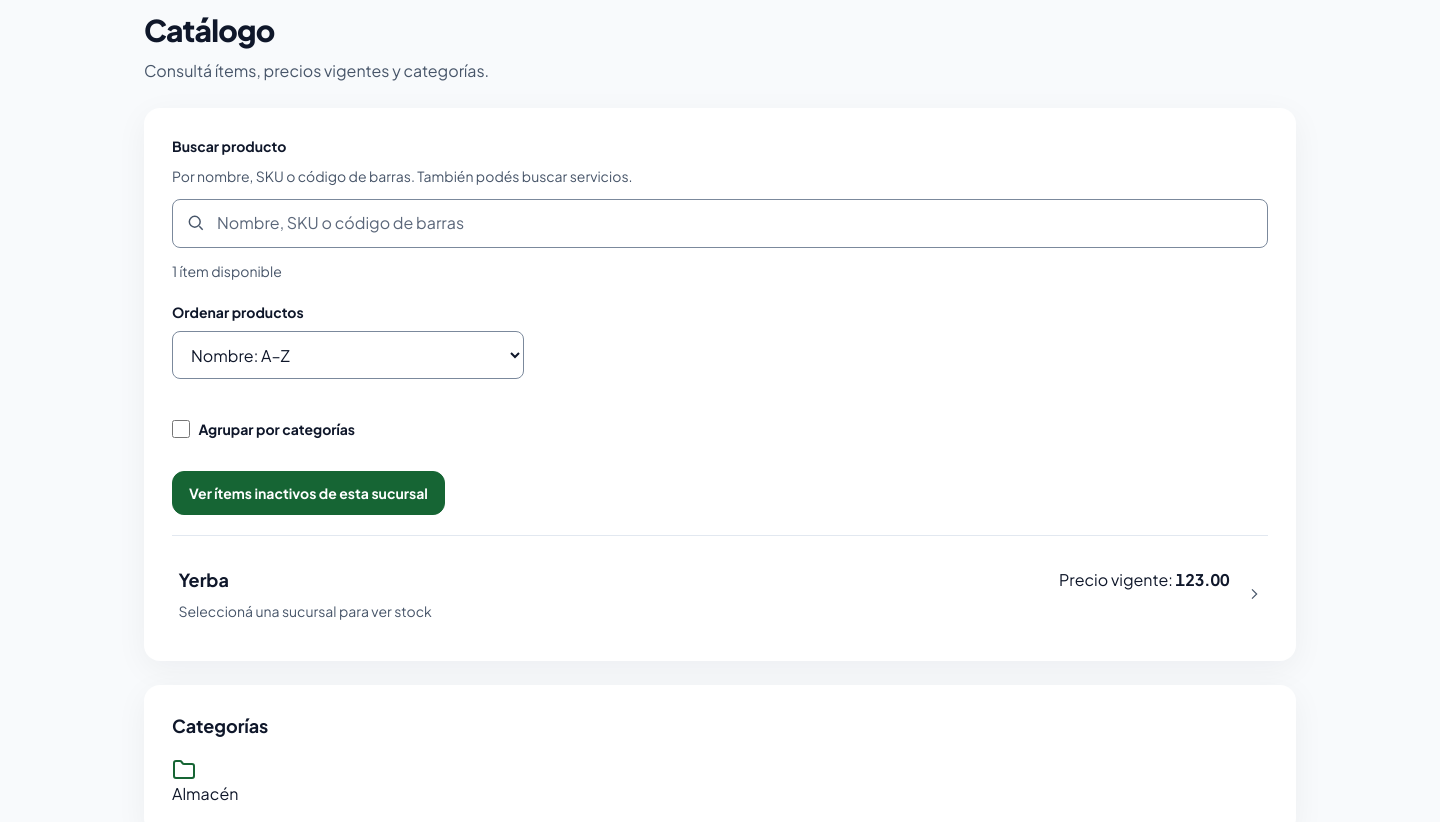
Scenario: loads historical inactive items only when an employee explicitly requests branch context
Expected: the text "Antiguo" is not shown
Click the button "Ver ítems inactivos de esta sucursal". click: [308, 493]
box: [172, 471, 445, 515]
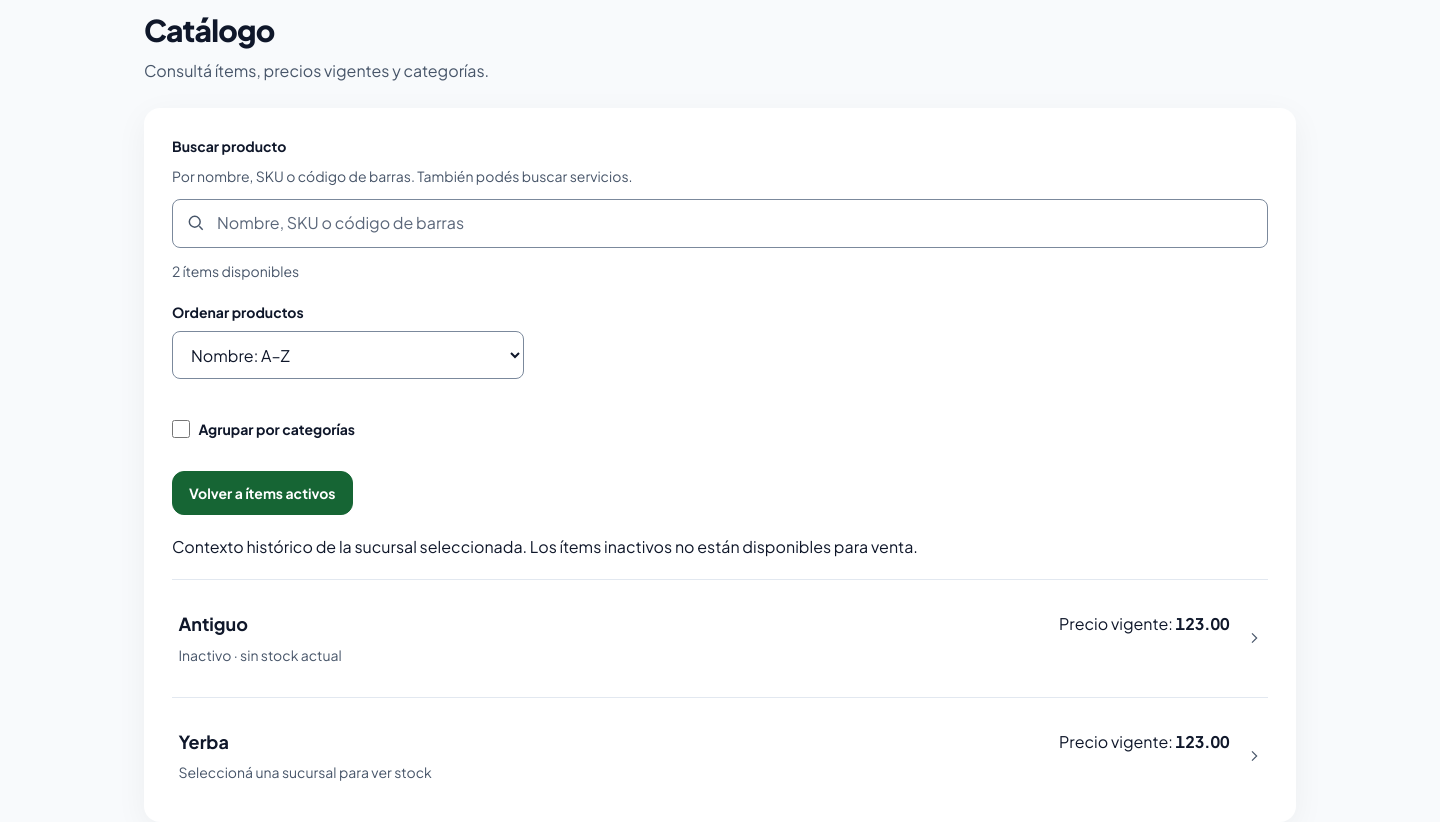
Expected: the text "Antiguo" is shown, [178, 612, 248, 635]
